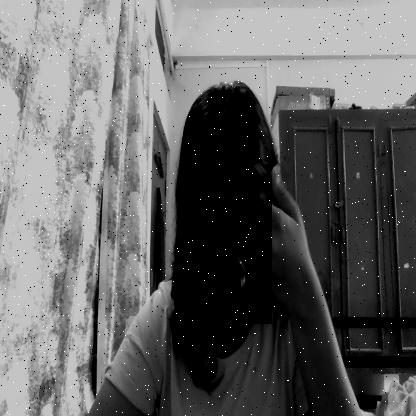Distracted: (192, 176, 272, 324)
